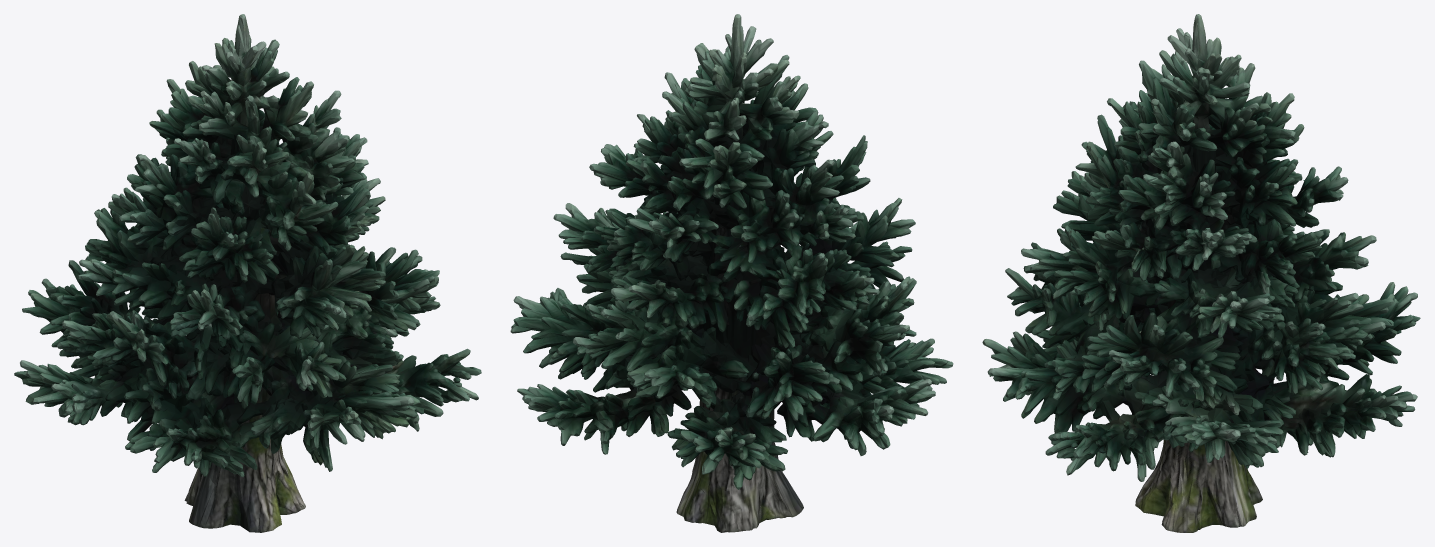
The model's file is spruce.glb.
The picture shows the model from 3 angles, left to right: view 1: azimuth 30°, elevation 25°; view 2: azimuth 150°, elevation 25°; view 3: azimuth 270°, elevation 25°; orthographic projection.
Parts seen in each view (by area): view 1: world; view 2: world; view 3: world.
Boxes of the visible parts, x1,y1,x2,y2 form: world: (14,14,481,532); world: (510,14,953,532); world: (982,14,1420,532).
Size of the model in its own units: 0.8593 by 0.9999 by 0.8041.
1 material, 1 textured.
